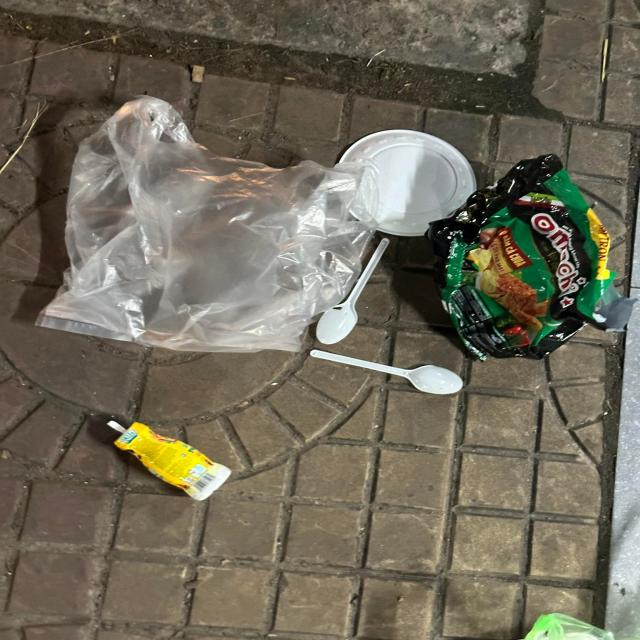bag: (36, 94, 380, 351)
bottle: (108, 419, 233, 502)
plastic holder: (338, 128, 479, 235)
plastic utensil: (317, 238, 389, 344), (310, 348, 463, 394)
snack package: (425, 155, 640, 363)
